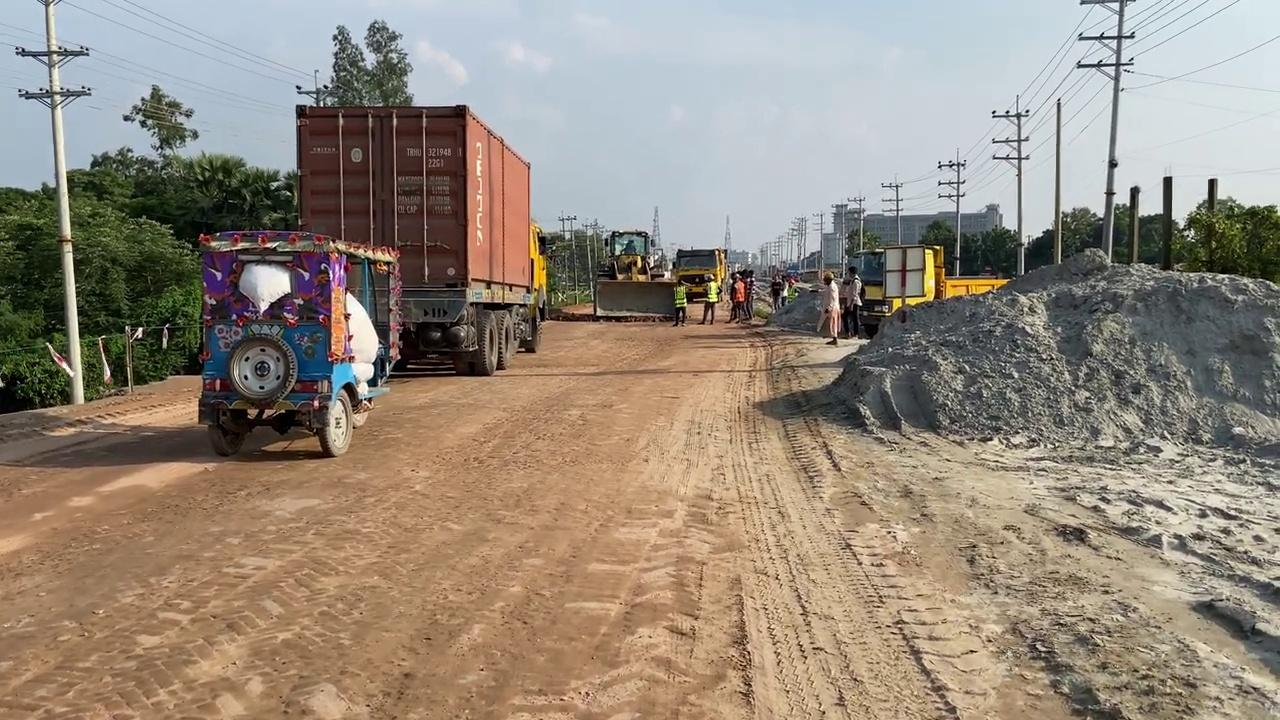Garbage: (831, 275, 1280, 449)
Pole: (1076, 0, 1136, 261), (1052, 97, 1062, 264)
Tree: (293, 102, 542, 376), (195, 227, 403, 458), (846, 242, 1011, 338), (591, 229, 677, 322), (512, 219, 549, 352), (672, 247, 728, 301)
